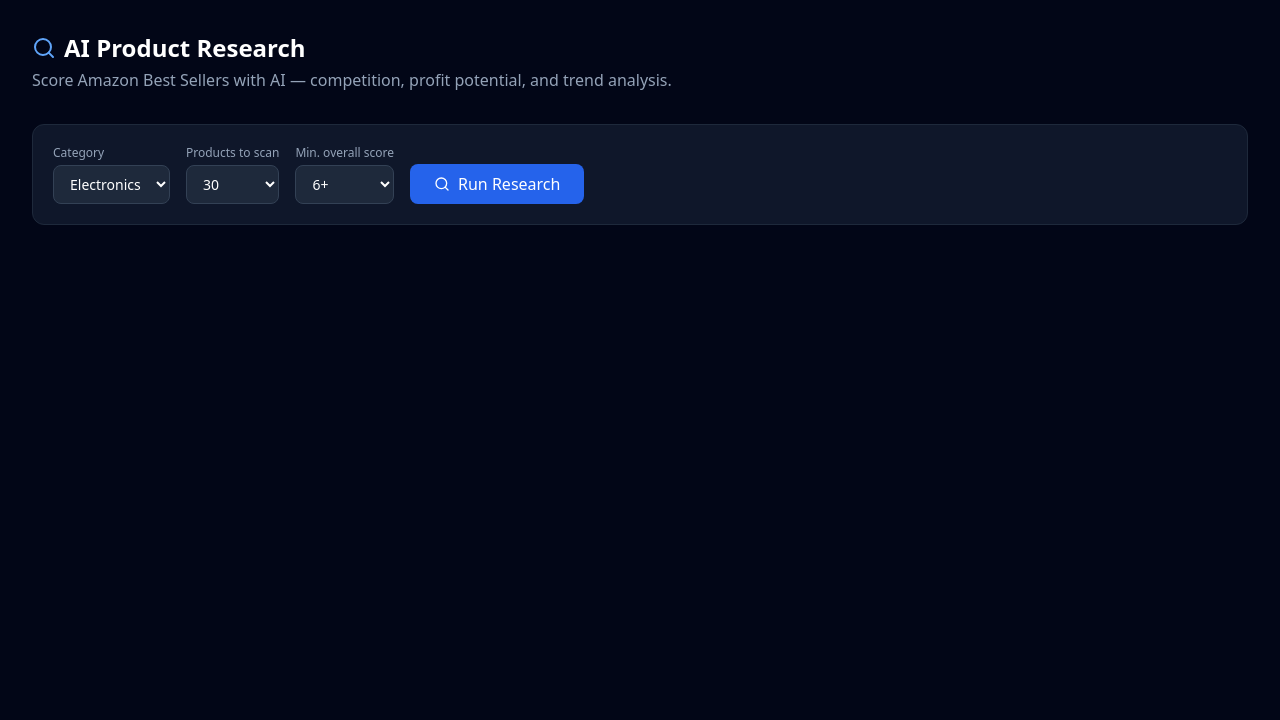
Scenario: Product Research — user scenario › shows product list with scores after user clicks Run Research
The width and height of the screenshot is (1280, 720).
# User clicks the research button
Click the button "Run Research". click: (497, 184)
box: [410,164,584,204]
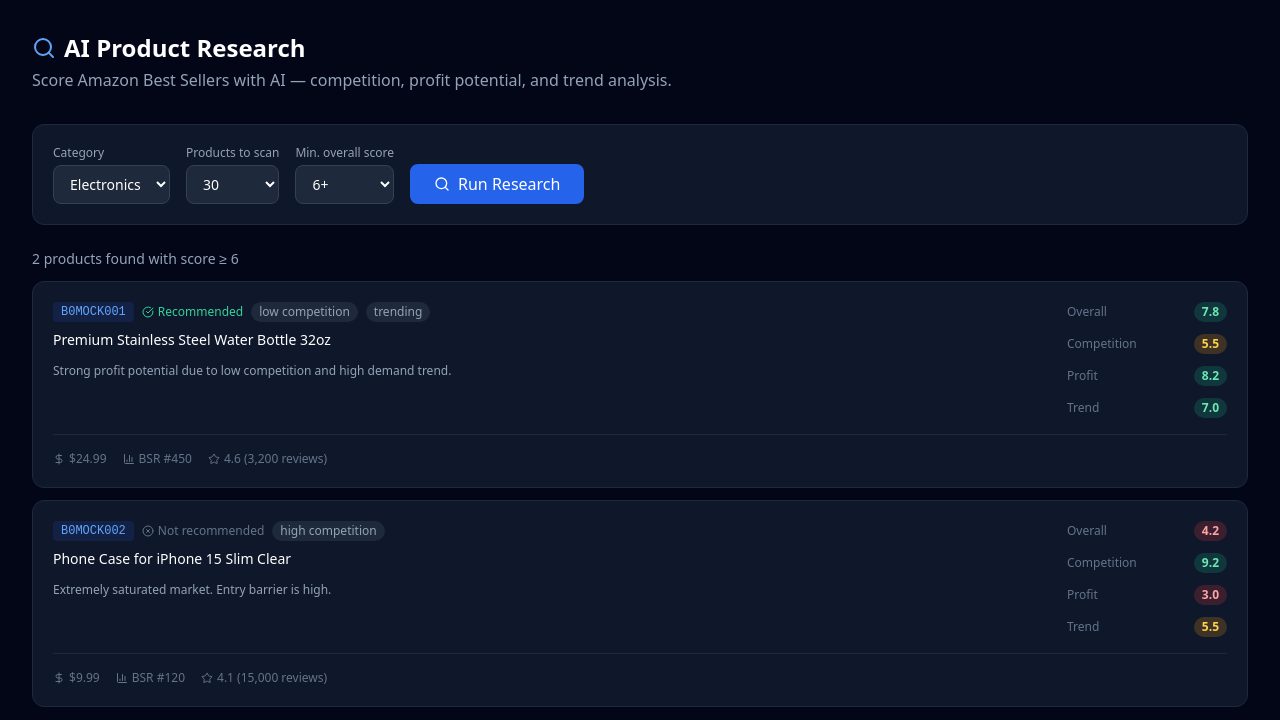
Check: the heading "Premium Stainless Steel Water Bottle 32oz" is shown, box [53,330,331,349]
Check: the text "7.8" is shown, box [1194,302,1227,322]
